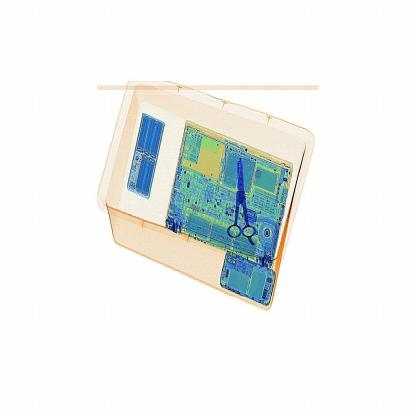gun: (221, 156, 267, 244)
